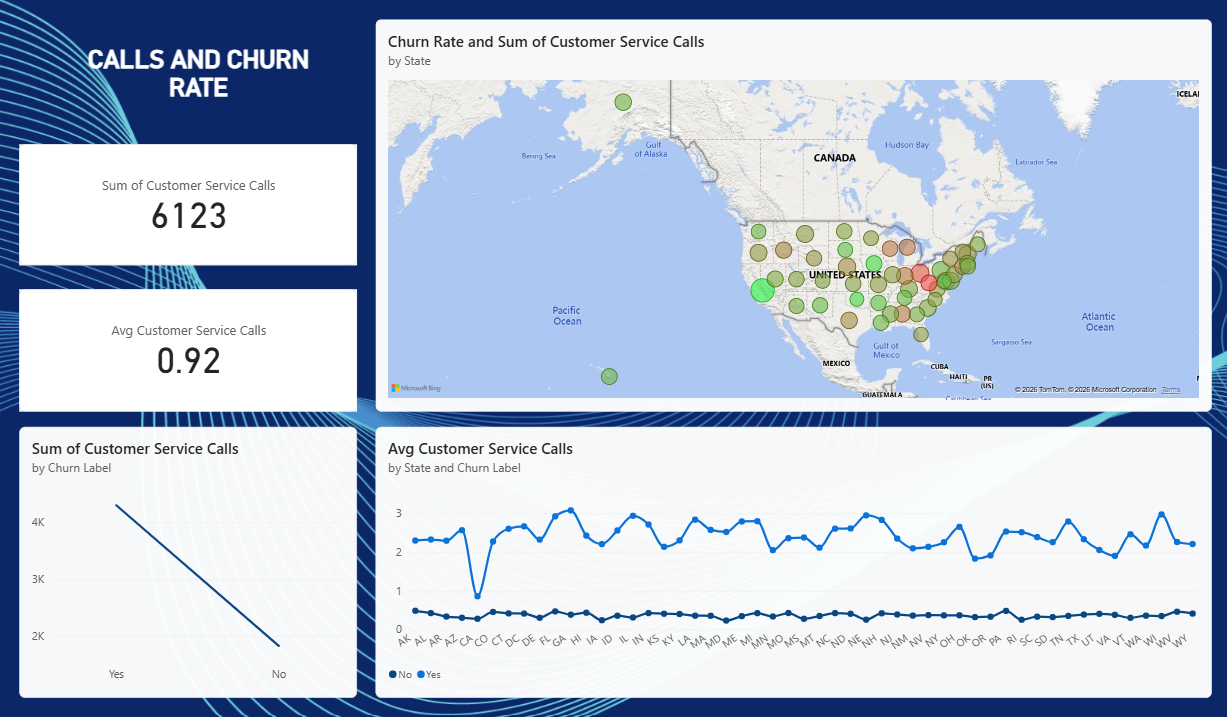

What the dashboard file says about the page in this screenshot:
{"tool":"powerbi","page":{"name":"Customer Service Calls","canvas":[1640,960],"ordinal":4},"visuals":[{"type":"cardVisual","fields":{"Data":["_Calculations.Avg Customer Service Calls"]},"box":[28.3,388.3,450,163.3],"z":2000},{"type":"cardVisual","title":"Customer Service Calls","fields":{"Data":["Sum(Databel.Customer Service Calls)"]},"box":[28.3,195,450,161.7],"z":3000},{"type":"lineChart","fields":{"Y":["_Calculations.Avg Customer Service Calls"],"Series":["Databel.Churn Label"],"Category":["Databel.State"]},"box":[503.3,571.7,1115,361.7],"z":4000},{"type":"lineChart","fields":{"Category":["Databel.Churn Label"],"Y":["Sum(Databel.Customer Service Calls)"]},"box":[28.3,571.7,450,361.7],"z":5000},{"type":"map","fields":{"Category":["Databel.State"],"Size":["_Calculations.Churn Rate"]},"box":[503.3,28.3,1115,523.3],"z":6000},{"type":"textbox","box":[78.3,61.7,378.3,116.7],"z":7000}]}

Visuals, with their boxes in screenshot pixels (x1, y1, x2, y2), scaled from the page's 1640x960 canvas onto the 1227x717 screenshot:
cardVisual - _Calculations.Avg Customer Service Calls: (21,290,358,412)
"Customer Service Calls" cardVisual: (21,146,358,266)
lineChart - _Calculations.Avg Customer Service Calls x Databel.Churn Label: (377,427,1211,697)
lineChart - Databel.Churn Label x Sum(Databel.Customer Service Calls): (21,427,358,697)
map - Databel.State x _Calculations.Churn Rate: (377,21,1211,412)
textbox: (59,46,342,133)
